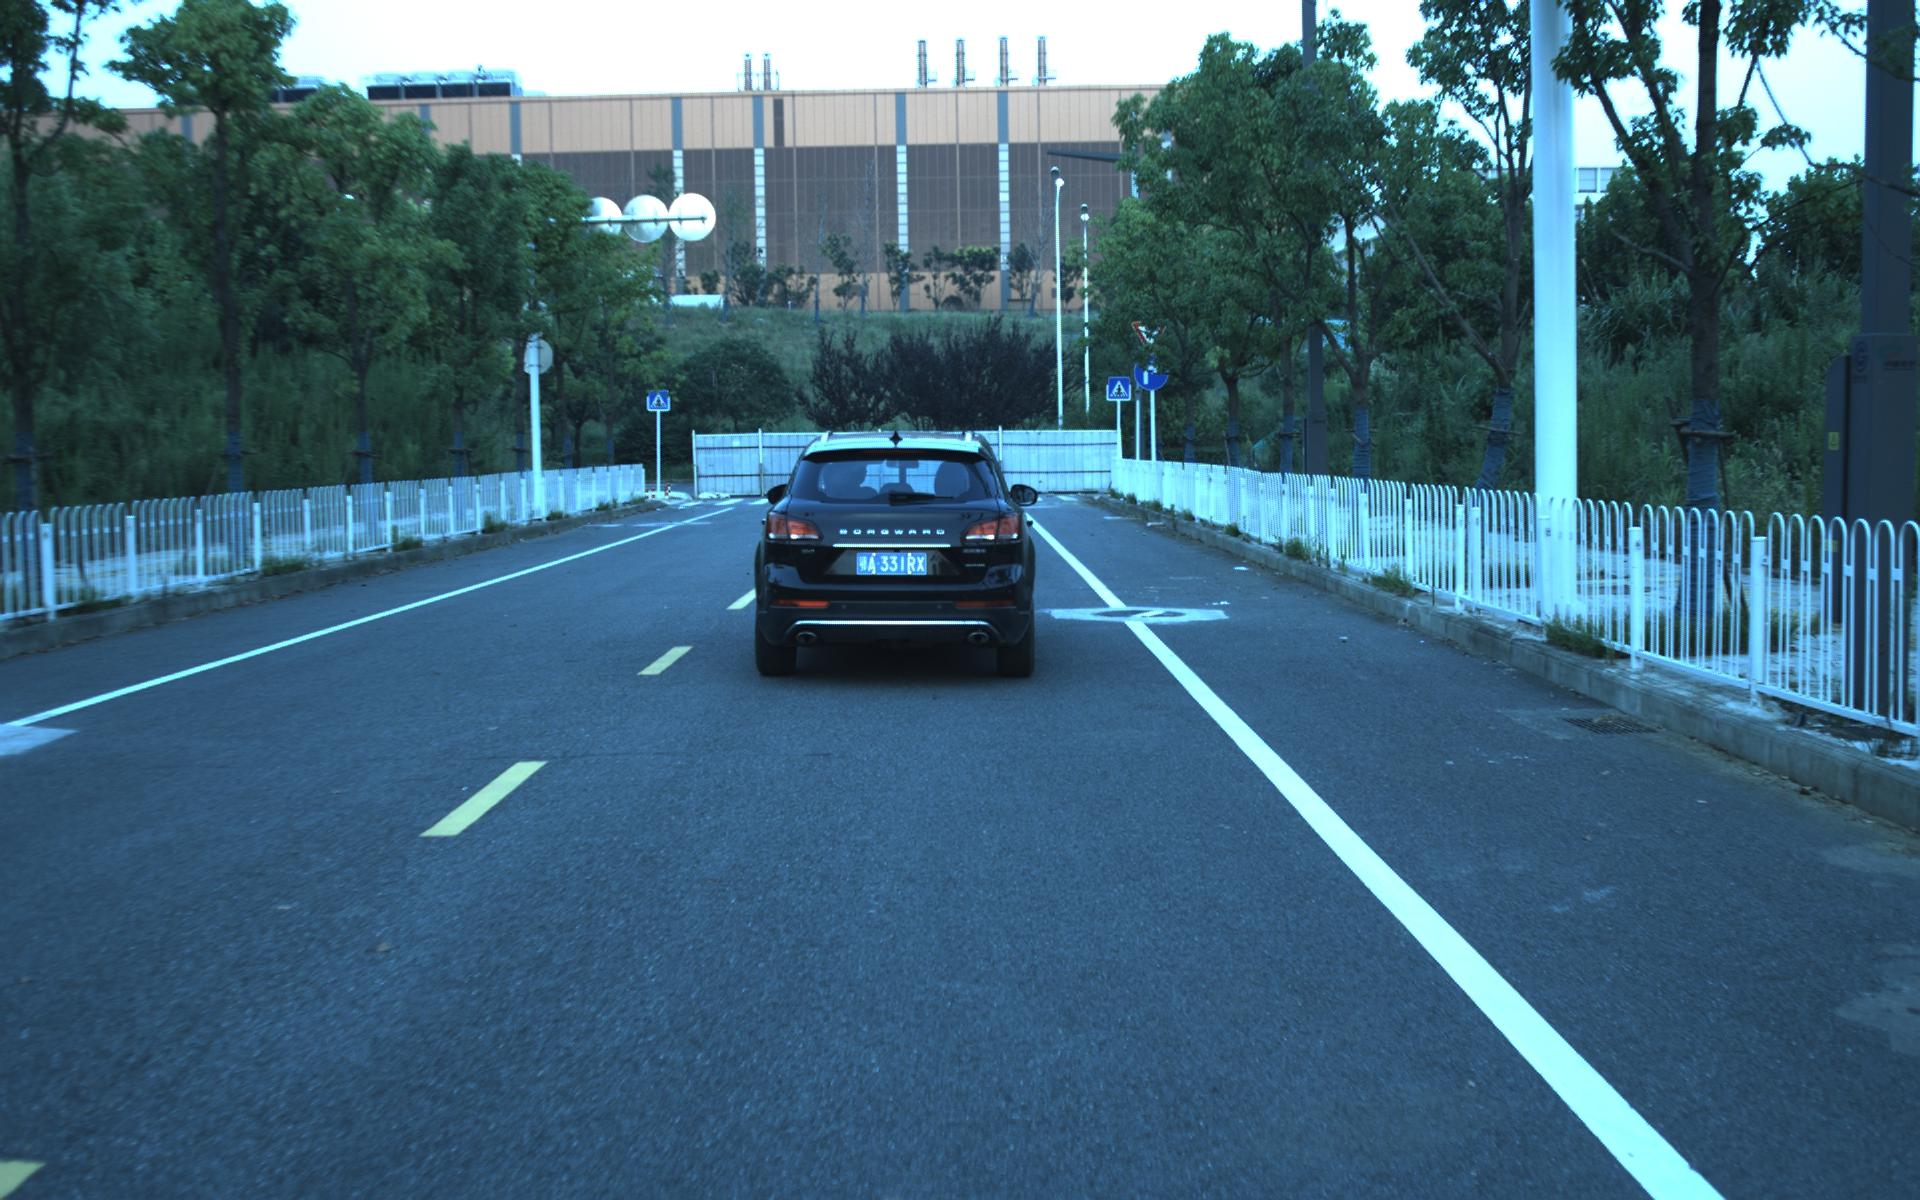Car: (751, 424, 1039, 679)
